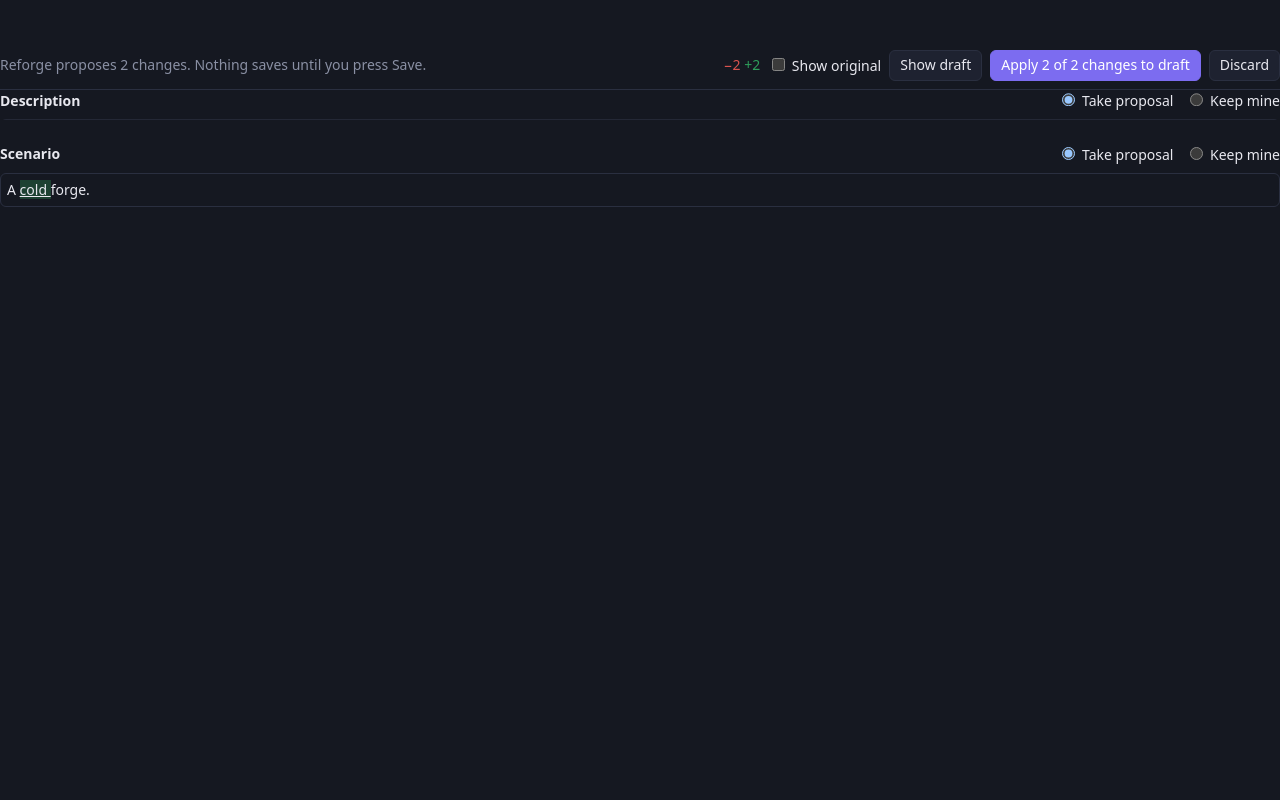
Scenario: Show draft shows the whole card with only the taken changes made
Click the radio button labelled "Keep mine" in the row of "Scenario" at [1197, 153], box [1190,147,1203,160]
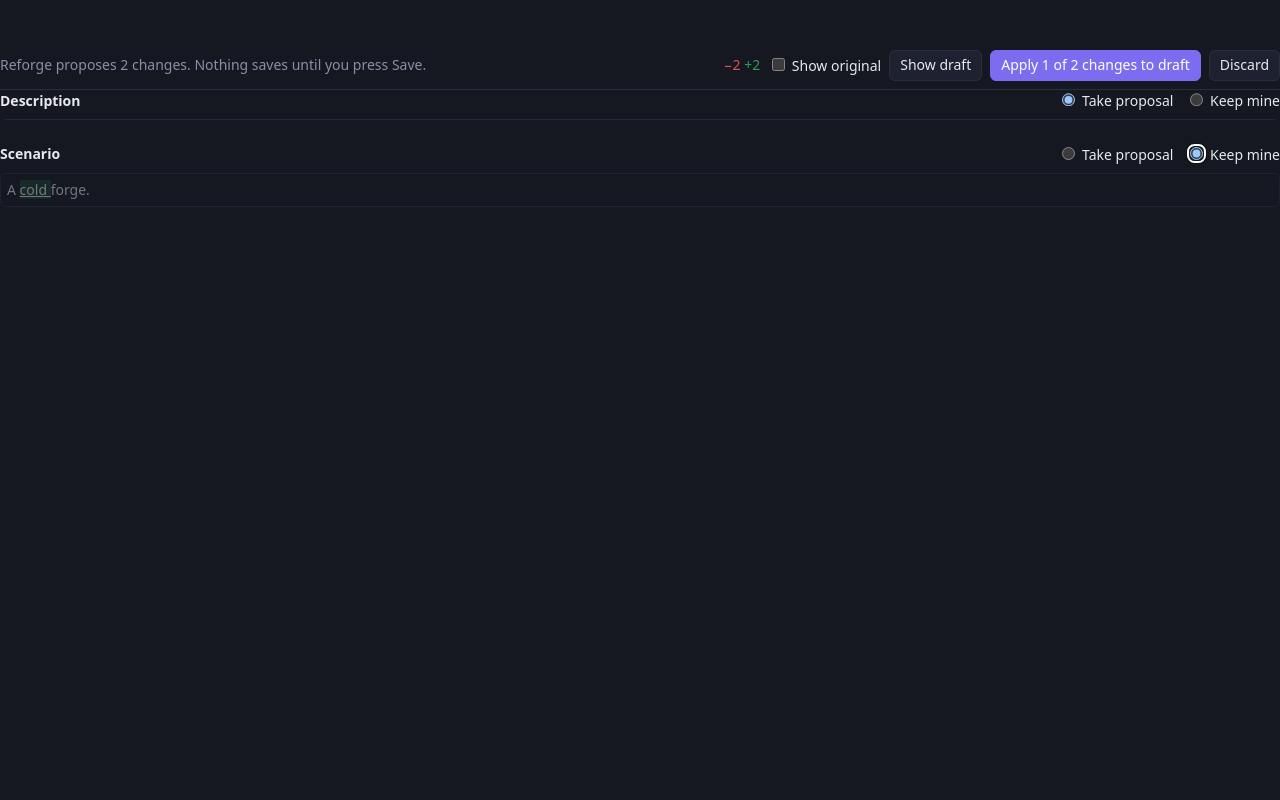
Click the button "Show draft" at [936, 65], box [889,50,982,81]
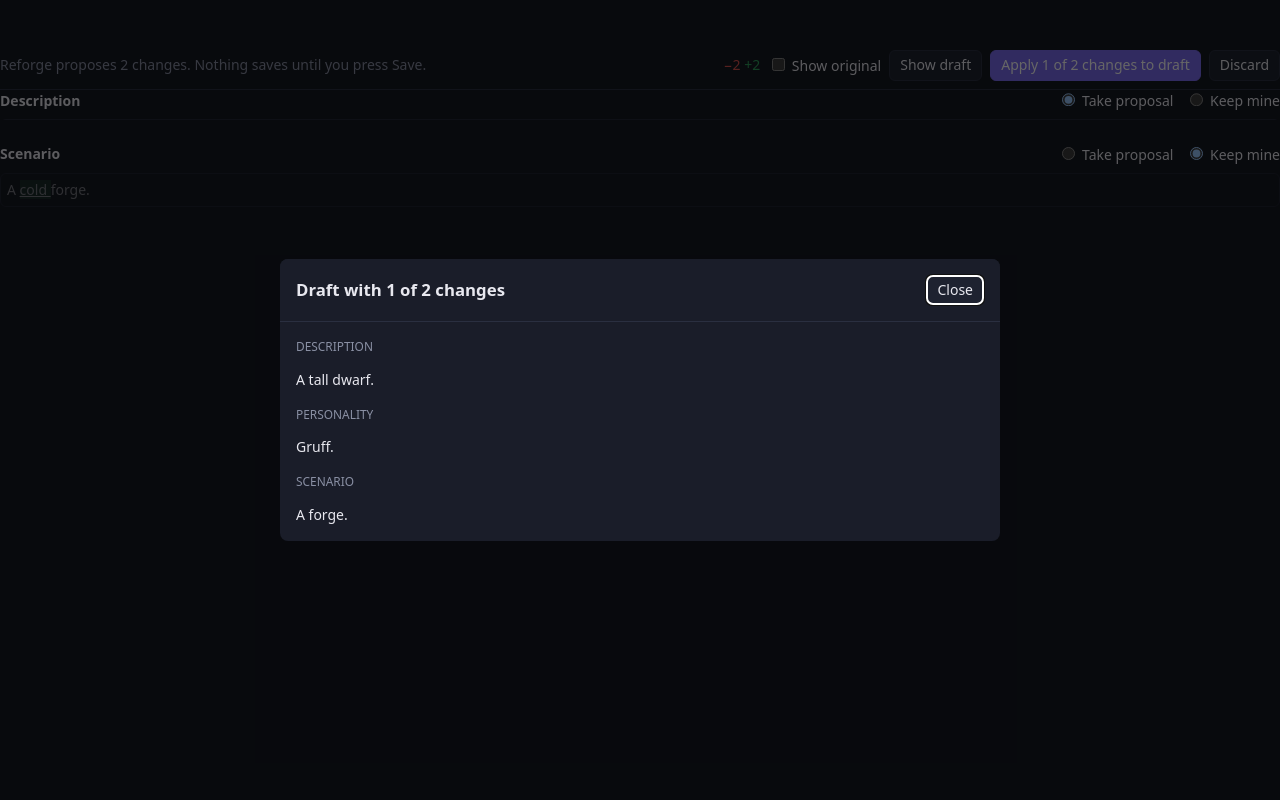
Expected: the element "Description" shows "A tall dwarf.", [296,370,374,389]
Expected: the element "Scenario" shows "A forge.", [296,505,348,524]
Expected: the element "Personality" shows "Gruff.", [296,437,334,456]
Click the button "Close" at [955, 290], box [926,275,984,305]
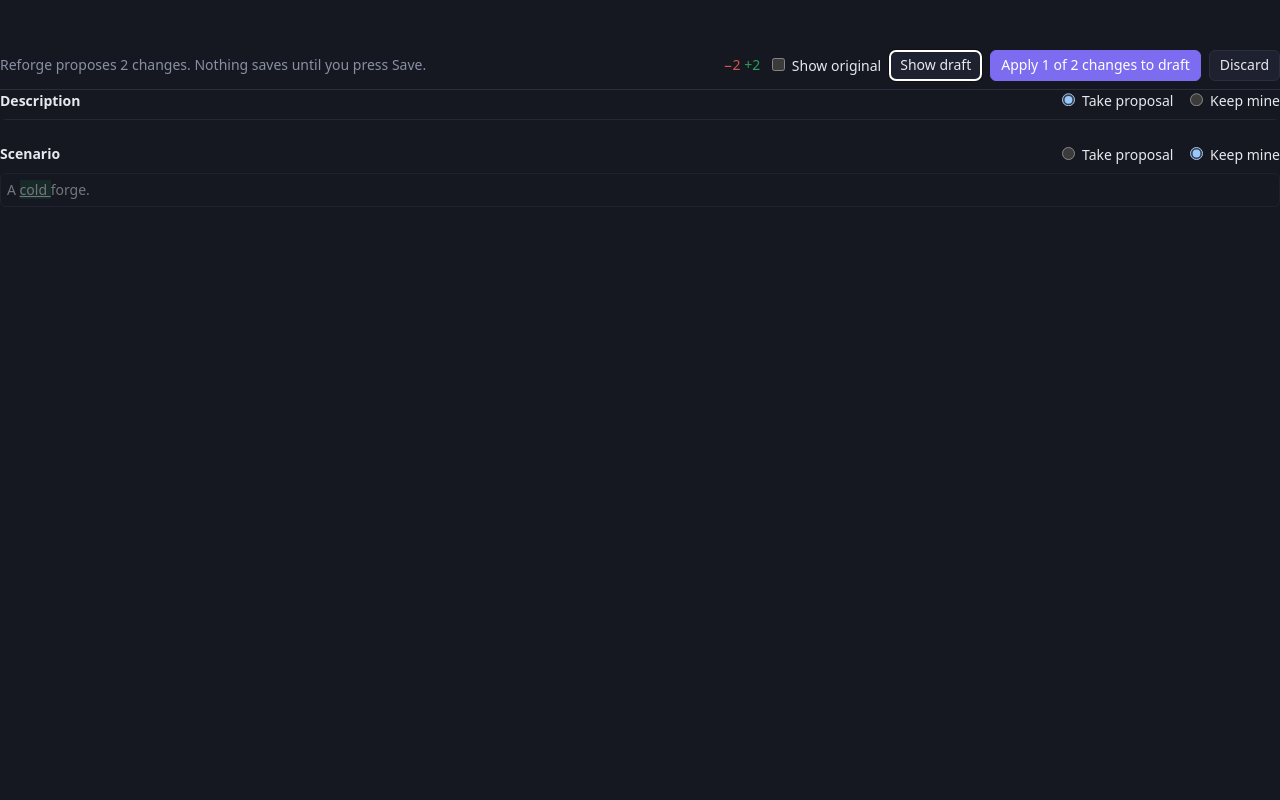
Expected: the dialog is gone
